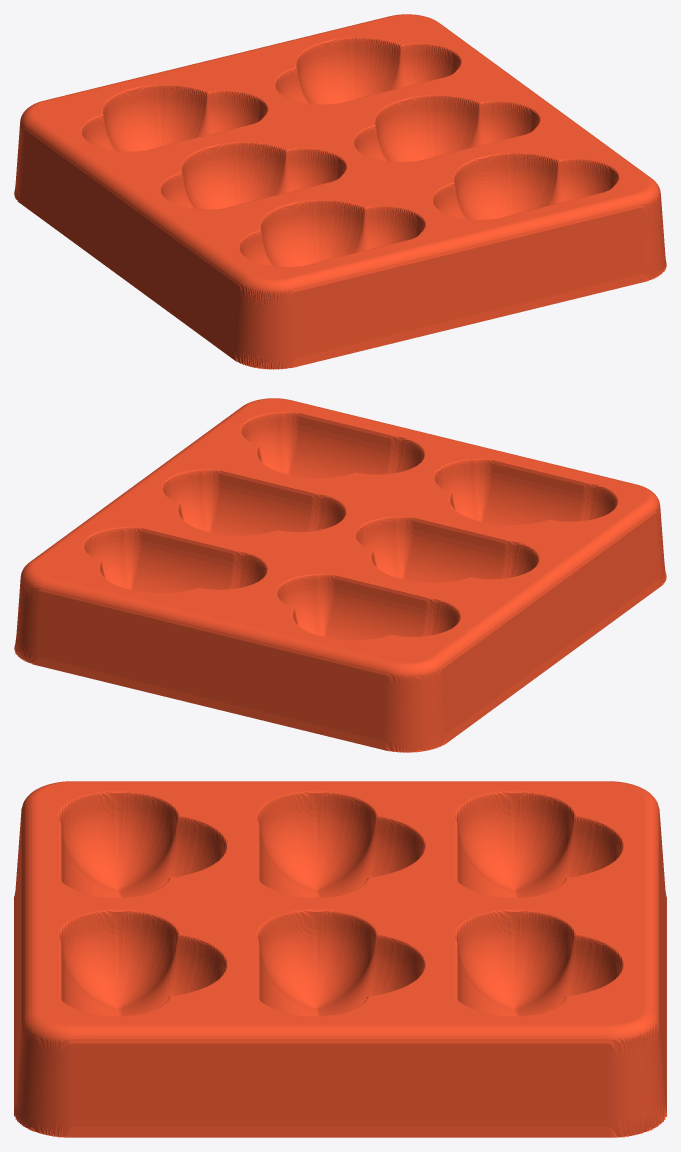
Rendered from mold.glb.
3 views of the same model, one above another, from view 1: azimuth 30°, elevation 25°; view 2: azimuth 150°, elevation 25°; view 3: azimuth 270°, elevation 25° (orthographic). The views are drawn at different scales.
Parts seen in each view (by area): view 1: geometry_0; view 2: geometry_0; view 3: geometry_0.
Part boxes in pixels (bbox=[...]): geometry_0: bbox=[14, 14, 666, 369]; geometry_0: bbox=[14, 398, 666, 752]; geometry_0: bbox=[14, 781, 666, 1137].
Size of the model in its own units: 0.0955 by 0.0175 by 0.1005.
